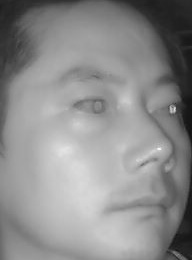eye: (68, 94, 112, 119), (153, 97, 184, 119)
mouth: (110, 185, 174, 223)
